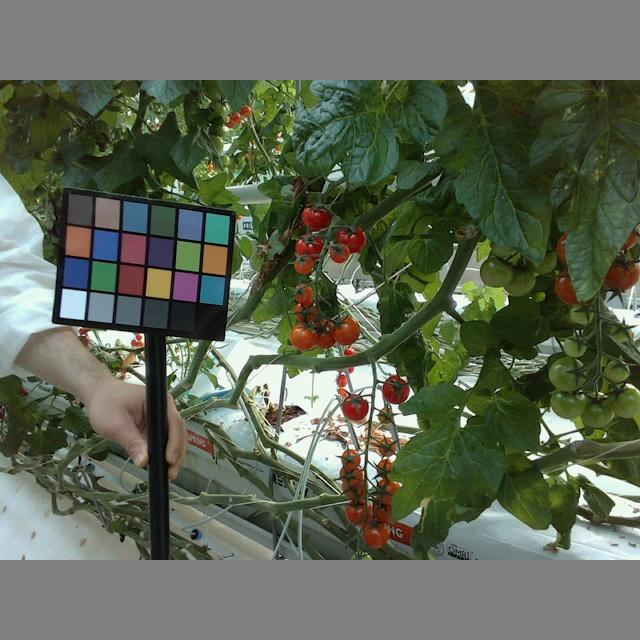green: (549, 356, 587, 394), (577, 393, 615, 429), (550, 387, 588, 421), (480, 259, 524, 286), (610, 382, 640, 418), (603, 356, 628, 385), (560, 332, 587, 358), (570, 302, 595, 323), (611, 322, 635, 343)
pink: (360, 519, 388, 550), (330, 316, 360, 344), (370, 495, 398, 524), (311, 318, 333, 349), (289, 323, 314, 350), (343, 501, 370, 525), (294, 302, 319, 325), (342, 480, 367, 500), (294, 282, 315, 304), (341, 447, 360, 469), (377, 437, 397, 457), (340, 468, 361, 485), (374, 461, 397, 475)
red: (383, 373, 413, 404), (301, 205, 334, 233), (333, 226, 367, 252), (295, 235, 325, 262), (342, 393, 368, 420), (328, 243, 351, 264), (296, 257, 316, 276)
